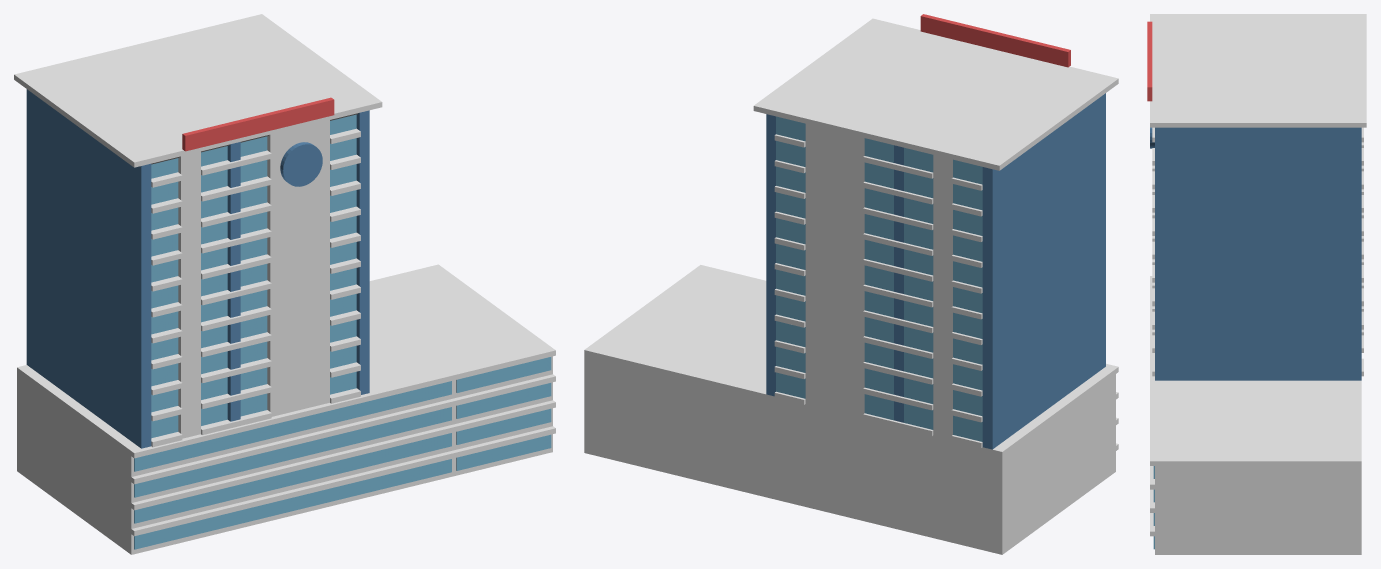
Rendered from daiHocLuat 1.glb.
3 views of the same model, side by side, from view 1: azimuth 30°, elevation 25°; view 2: azimuth 150°, elevation 25°; view 3: azimuth 270°, elevation 25° (orthographic). The views are drawn at different scales.
Visible parts, largest first — view 1: Merged_White_004, Merged_Glass_004, Merged_Blue_Column_002, Sign; view 2: Merged_White_004, Merged_Blue_Column_002, Merged_Glass_004, Sign; view 3: Merged_White_004, Merged_Blue_Column_002, Sign.
Part boxes in pixels (x1,y1,x2,y2): Merged_White_004: (14, 14, 555, 554); Merged_Glass_004: (134, 114, 551, 549); Merged_Blue_Column_002: (26, 89, 369, 448); Sign: (182, 97, 334, 151); Merged_White_004: (584, 18, 1118, 554); Merged_Blue_Column_002: (766, 93, 1105, 449); Merged_Glass_004: (776, 116, 982, 441); Sign: (920, 14, 1070, 67); Merged_White_004: (1150, 14, 1366, 554); Merged_Blue_Column_002: (1150, 127, 1361, 380); Sign: (1147, 21, 1152, 101).
Size of the model in its own units: 17 by 15.8 by 8.5.
